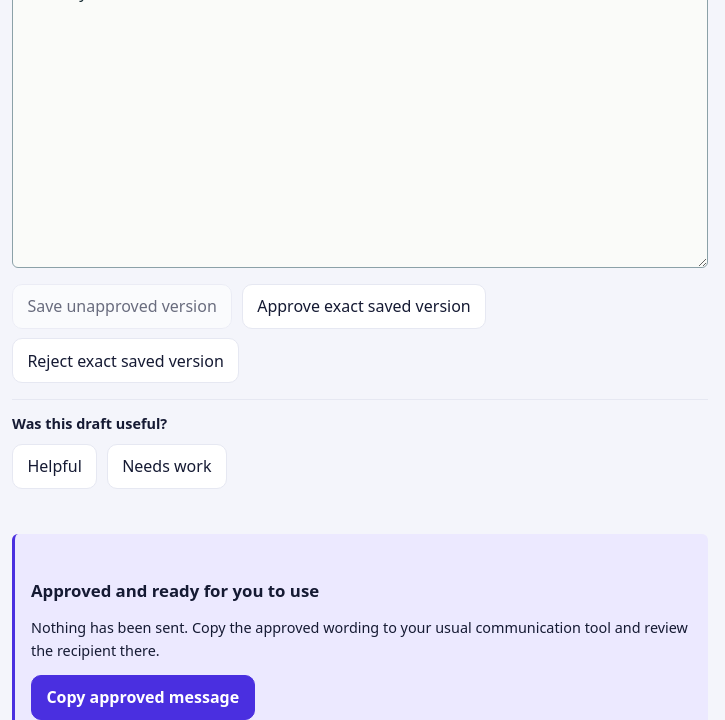
keeps copying blocked after rejection commits until refreshed case state arrives
(page scrolled)
Click the button "Reject exact saved version".
click(126, 361)  # box [12,338,239,384]
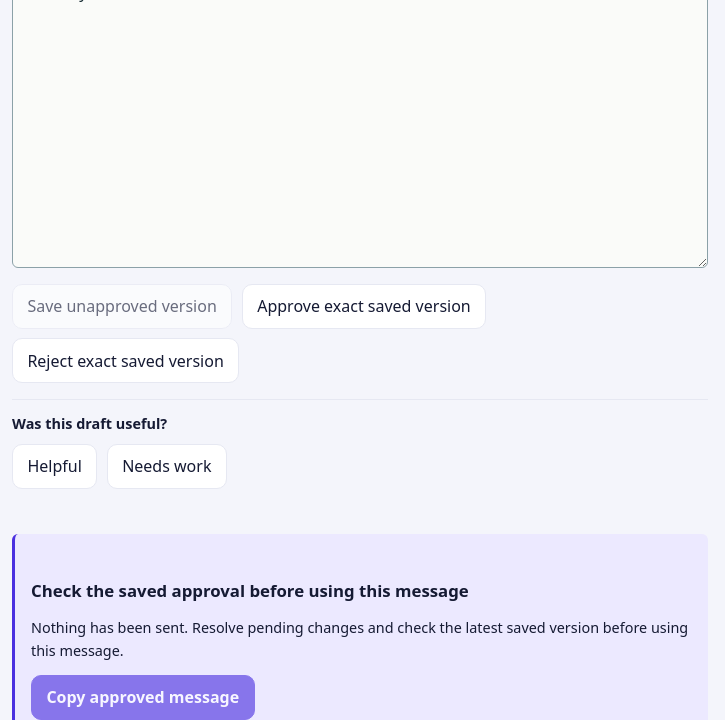
expect the button "Copy approved message" is disabled: met, box [31,675,255,719]
